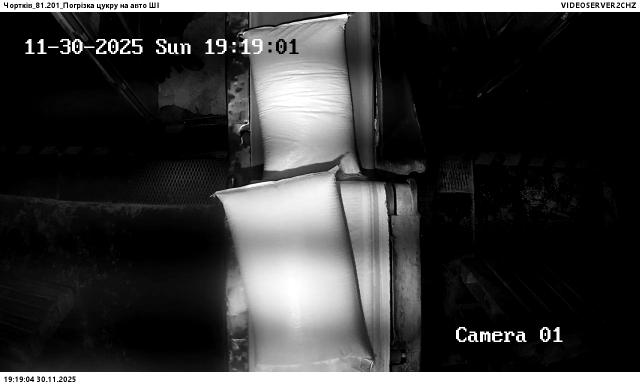bag: (216, 171, 366, 372), (240, 13, 366, 179)
